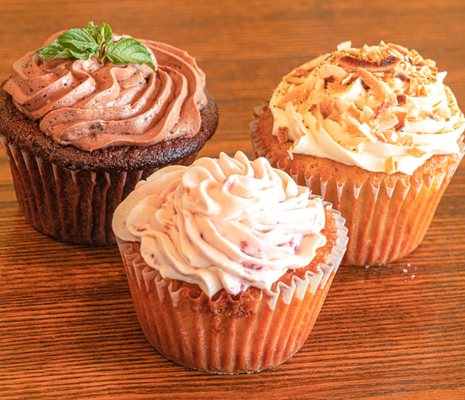curry: (0, 0, 464, 382)
sushi: (114, 150, 350, 375), (0, 19, 220, 247), (250, 40, 465, 267)
